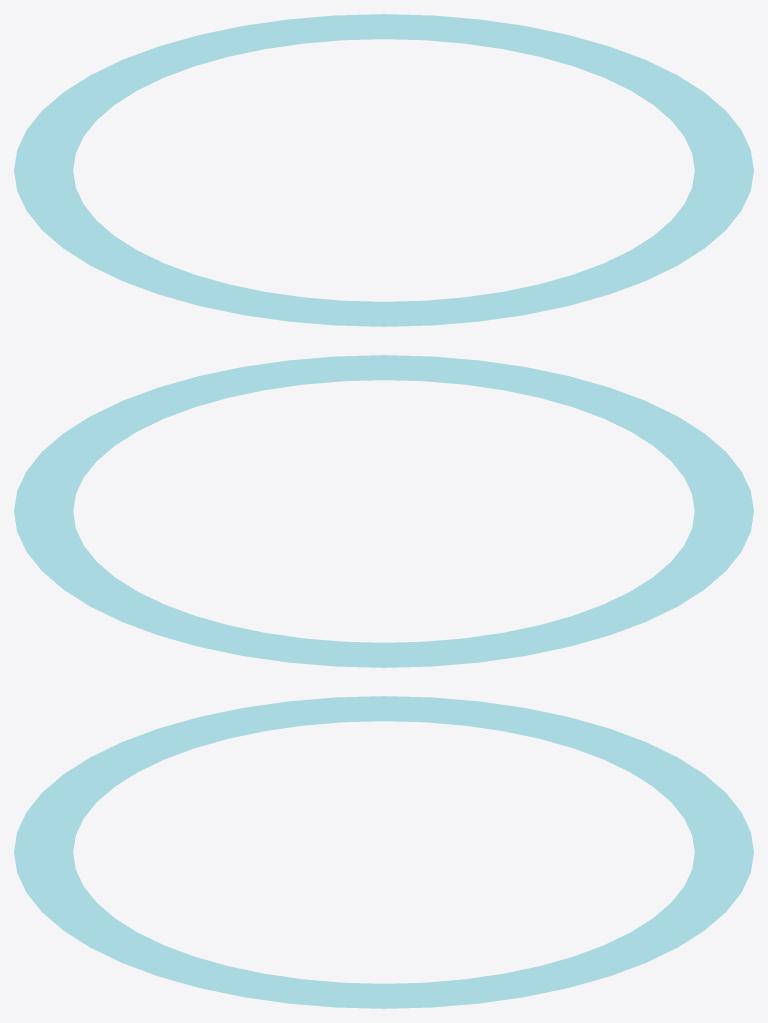
Rendered from wind_ring.fbx.
The picture shows the model from 3 angles, top to bottom: view 1: azimuth 30°, elevation 25°; view 2: azimuth 150°, elevation 25°; view 3: azimuth 270°, elevation 25°; orthographic projection.
Parts seen in each view (by area): view 1: wind_ring; view 2: wind_ring; view 3: wind_ring.
Boxes of the visible parts, x1,y1,x2,y2 form: wind_ring: [14, 14, 753, 326]; wind_ring: [14, 355, 753, 667]; wind_ring: [14, 696, 753, 1008].
Bounding box in the file's own units: 5 × 8.15e-07 × 5.
